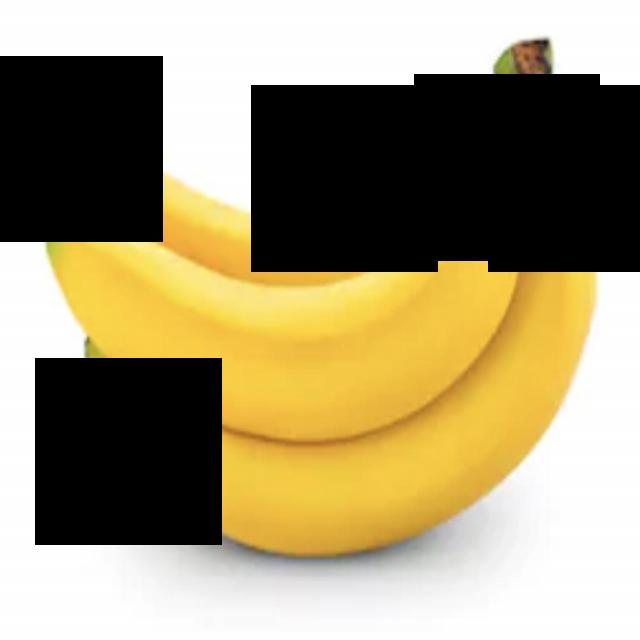banana: (73, 84, 591, 596), (0, 58, 557, 431)
